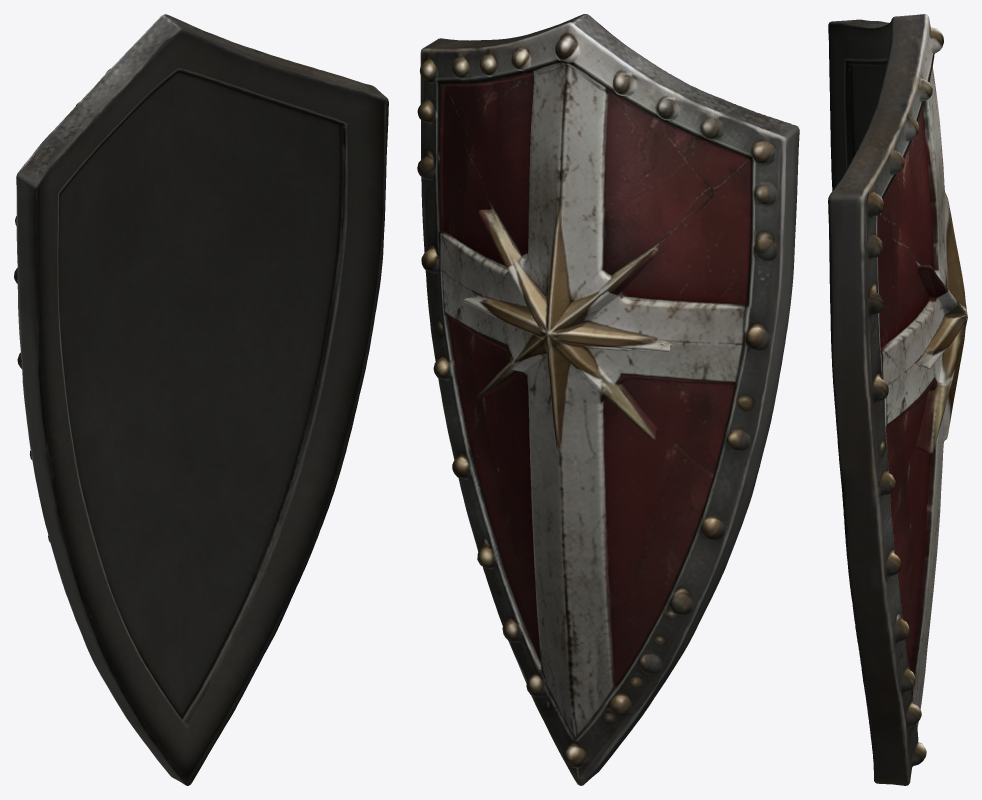
File: kite_red_cross.glb
3 renders of one model, left to right at view 1: azimuth 30°, elevation 25°; view 2: azimuth 150°, elevation 25°; view 3: azimuth 270°, elevation 25°, orthographic. The views are drawn at different scales.
Visible parts, largest first — view 1: kite_red_cross; view 2: kite_red_cross; view 3: kite_red_cross.
Boxes of the visible parts, <box> form: kite_red_cross: <box>14,14,388,785</box>; kite_red_cross: <box>417,14,799,785</box>; kite_red_cross: <box>828,14,967,785</box>.
Bounding box in the file's own units: 0.4053 × 0.8142 × 0.1337.
Materials: 1 (1 with a texture image).
